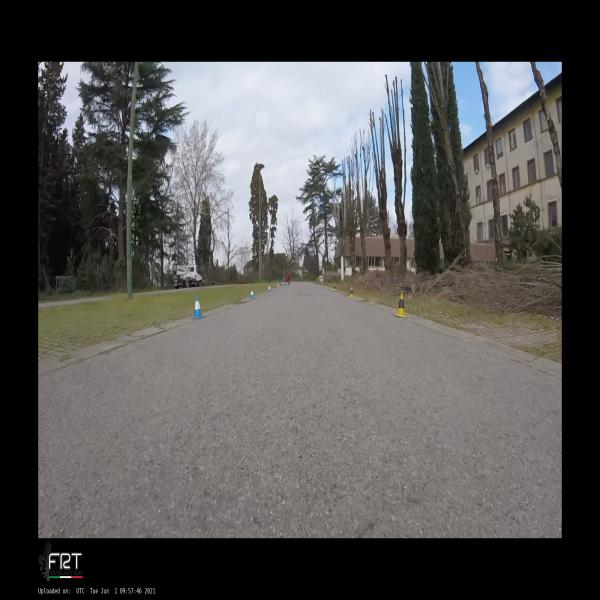blue_cone: (191, 296, 204, 318), (250, 288, 255, 299), (268, 286, 270, 291)
yellow_cone: (394, 292, 407, 318), (349, 287, 354, 298), (334, 284, 336, 290), (326, 282, 328, 288)
